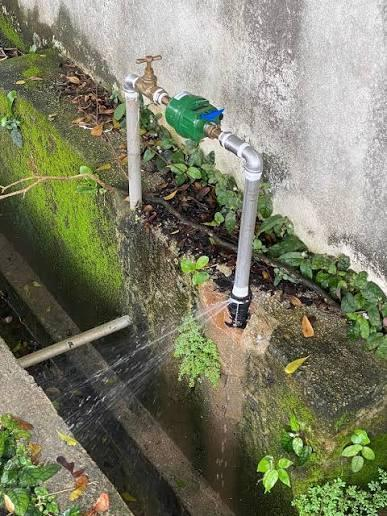pipe burst: (64, 294, 243, 445)
